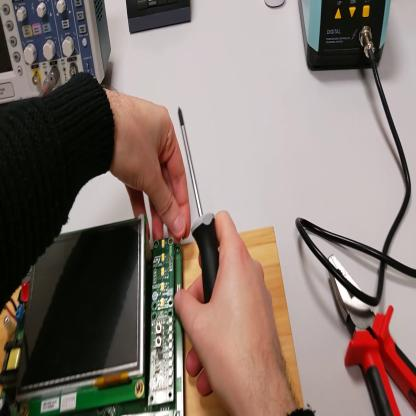hand: (175, 218, 287, 416), (107, 89, 191, 245)
low voltage board: (1, 211, 186, 416)
oscilloscope: (2, 3, 113, 104)
pliers: (328, 252, 416, 415)
screwdriver-: (175, 108, 220, 304)
welder station: (300, 3, 392, 74)
working area: (3, 230, 305, 411)
